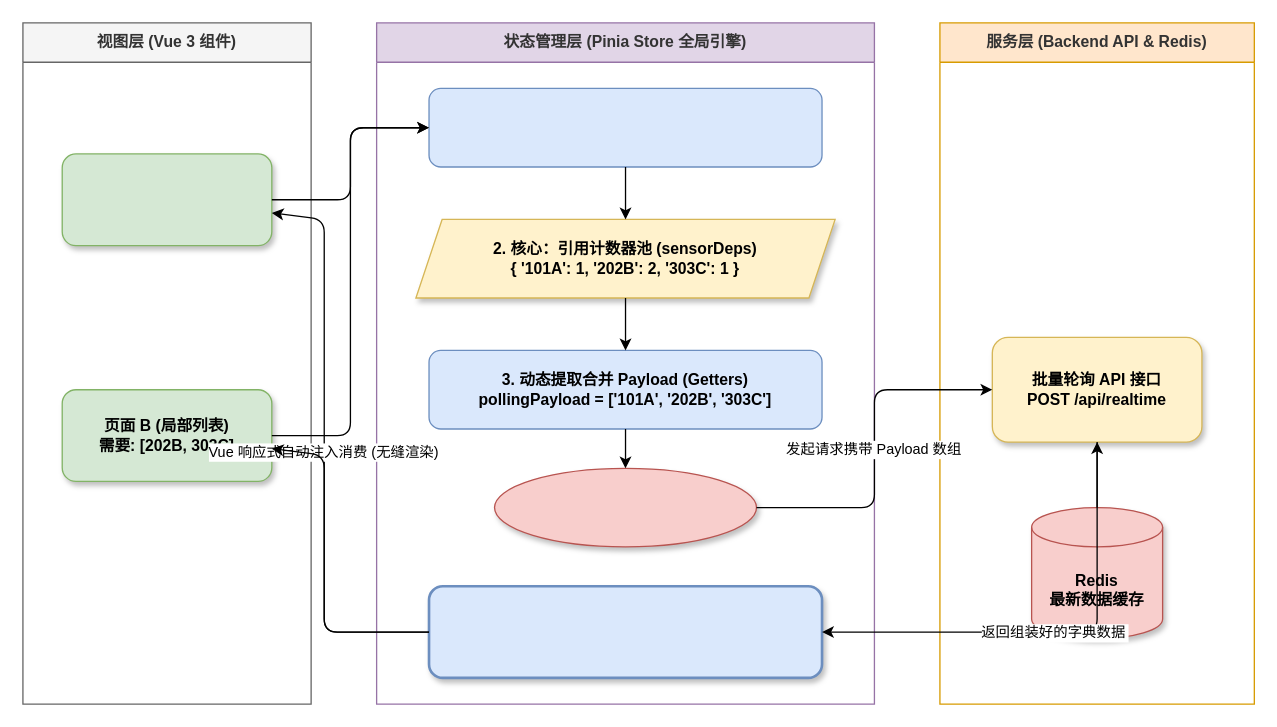
This 1277x727 diagram has some shape labels left out. The centre of each missing label's shape, as x and y in pixels:
"1. 生命周期触发注册 / 注销 subscribeSensors(ids) unsubscribeSensors(ids)" belongs at point (625, 127).
"4. 智能启停定时器 (防抖发送) setInterval (5s)" belongs at point (626, 509).
"5. 全局响应式字典 (sensorDataMap) { '101A': { value: 46 }, '202B': {...} }" belongs at point (626, 633).
"页面 A (大屏) 需要:[101A, 202B]" belongs at point (168, 201).
